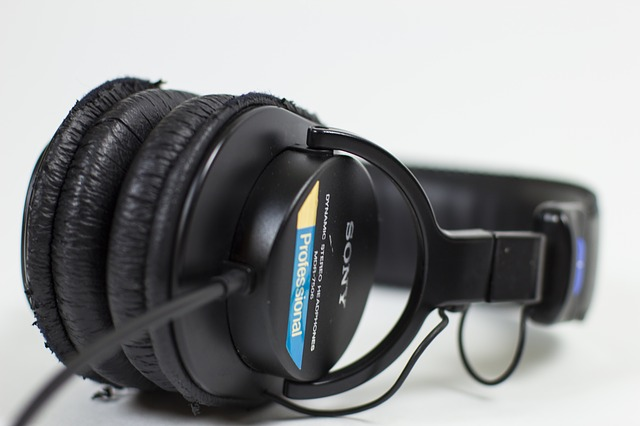headphones: (21, 78, 599, 417)
